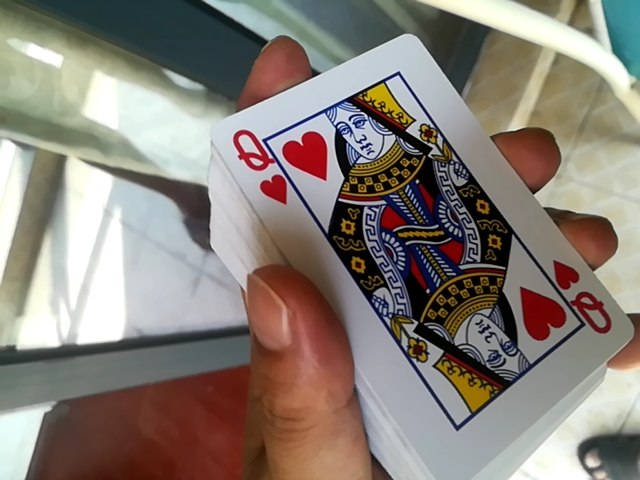hx q: (200, 10, 637, 477)
